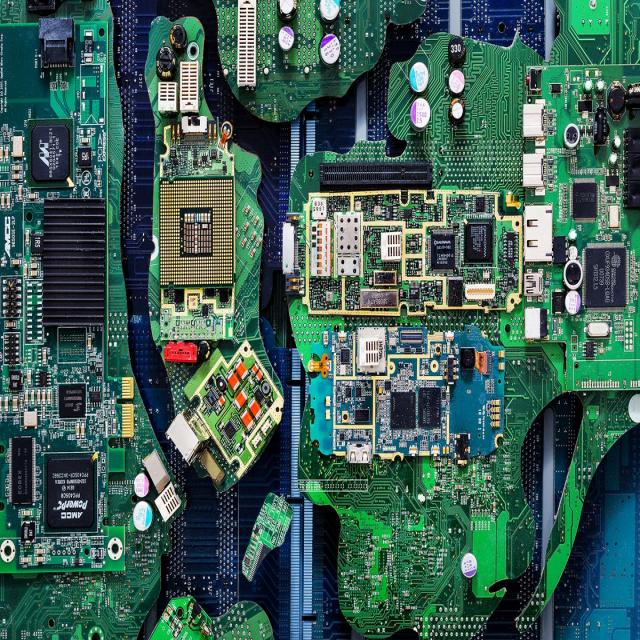hazard: (3, 0, 640, 640)
